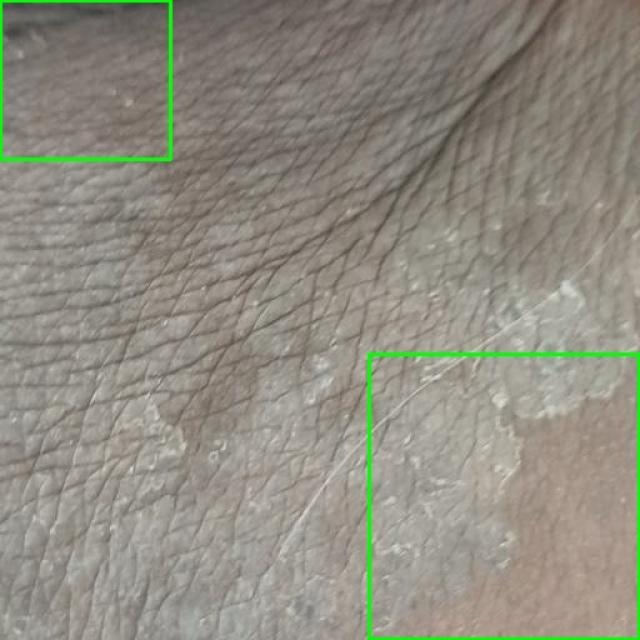Eczema: (369, 354, 639, 639), (0, 0, 170, 159)
